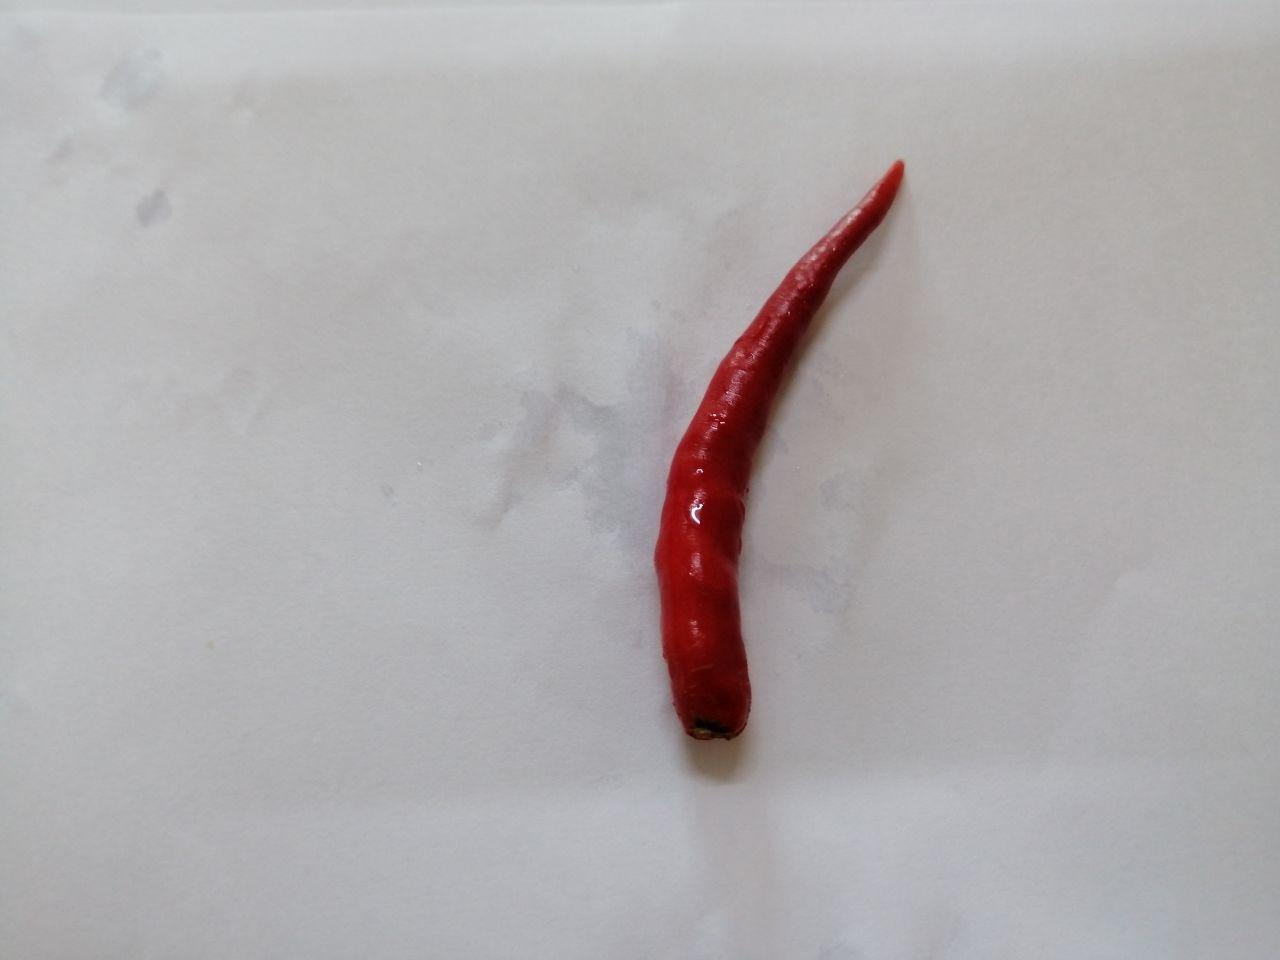lada merah: (652, 146, 912, 789)
